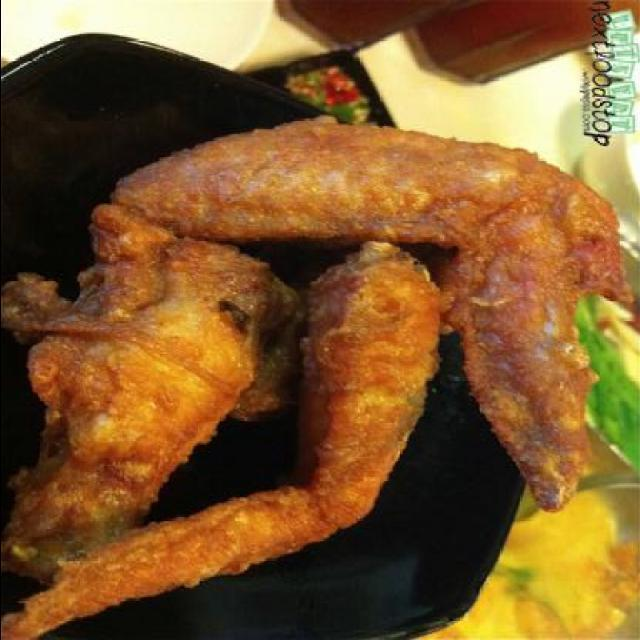Deep fried chicken wing: (12, 121, 620, 625)
